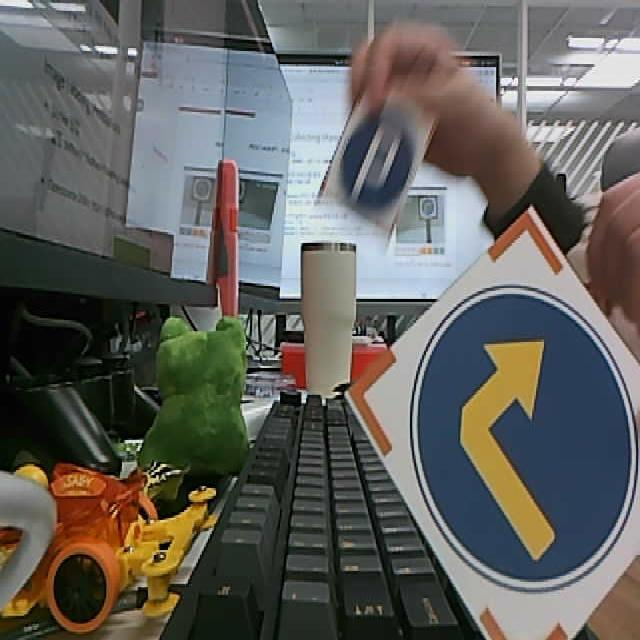parking: (343, 116, 414, 209)
turn: (407, 284, 640, 596)
